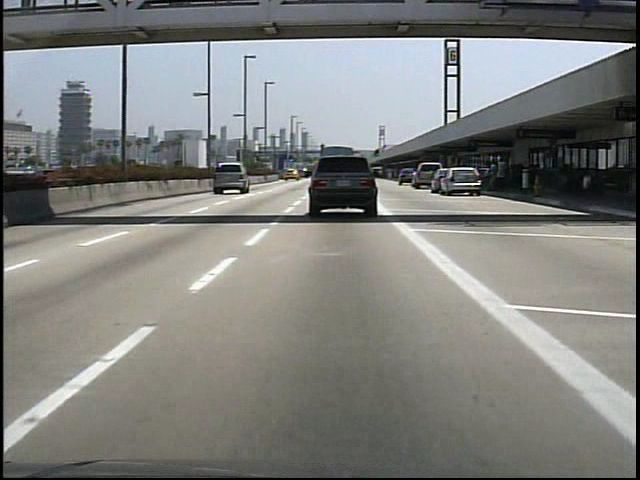person: (493, 155, 513, 194), (483, 160, 497, 194)
